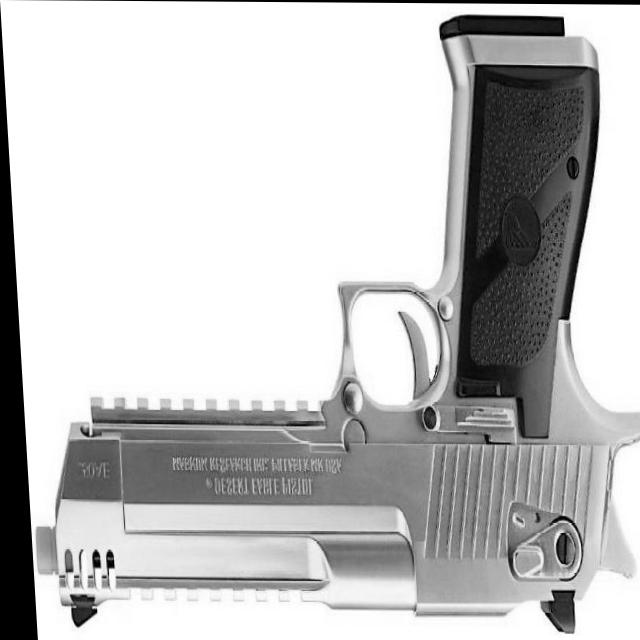handgun: (5, 11, 638, 631)
